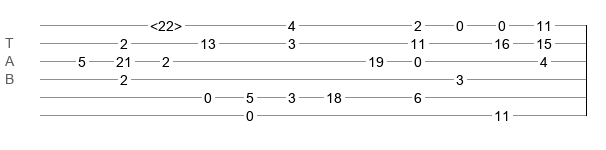0: (204, 90, 212, 100), (246, 108, 254, 118), (414, 54, 422, 64), (456, 18, 464, 28), (498, 18, 506, 28)
11: (410, 36, 426, 46), (494, 108, 510, 118), (536, 18, 552, 28)
13: (200, 36, 216, 46)
15: (536, 36, 552, 46)
16: (494, 36, 510, 46)
18: (326, 90, 342, 100)
19: (368, 54, 384, 64)
2: (120, 36, 128, 46), (120, 72, 128, 82), (162, 54, 170, 64), (414, 18, 422, 28)
21: (116, 54, 132, 64)
3: (288, 36, 296, 46), (288, 90, 296, 100), (456, 72, 464, 82)
4: (288, 18, 296, 28), (540, 54, 548, 64)
5: (78, 54, 86, 64), (246, 90, 254, 100)
6: (414, 90, 422, 100)
harmonic: (150, 18, 182, 28)
